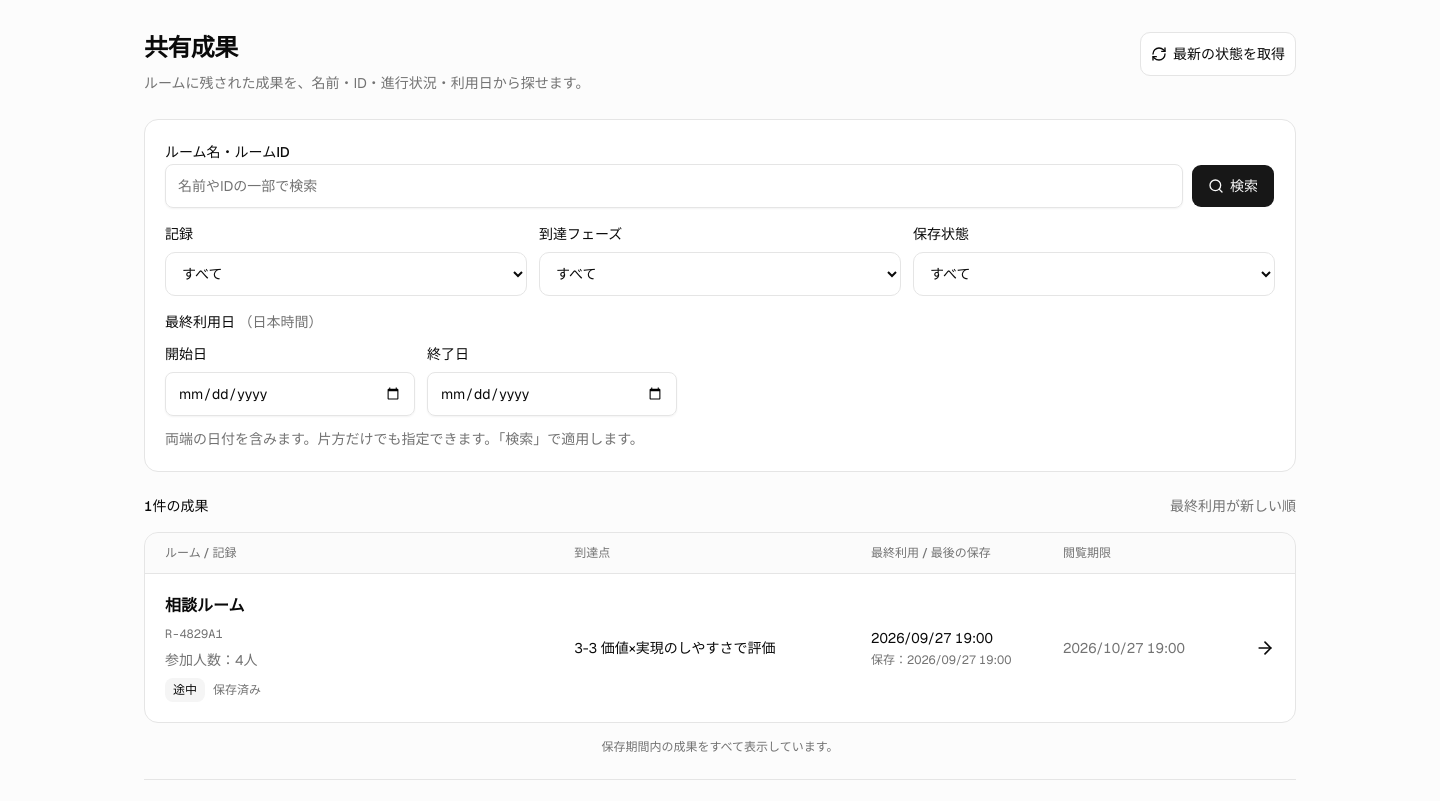
it: 共有成果閲覧 › 取得ごとに認可し、剥奪時に前の内容を隠す
This screenshot has width=1440, height=801.
Check: the link "相談ルーム" is shown, box [145,574,1295,722]
What coordinates should you click on to do the following:
click the button "最新の状態を取得"
I would click on:
 (1218, 54)
Its box is [1140,32,1296,76].
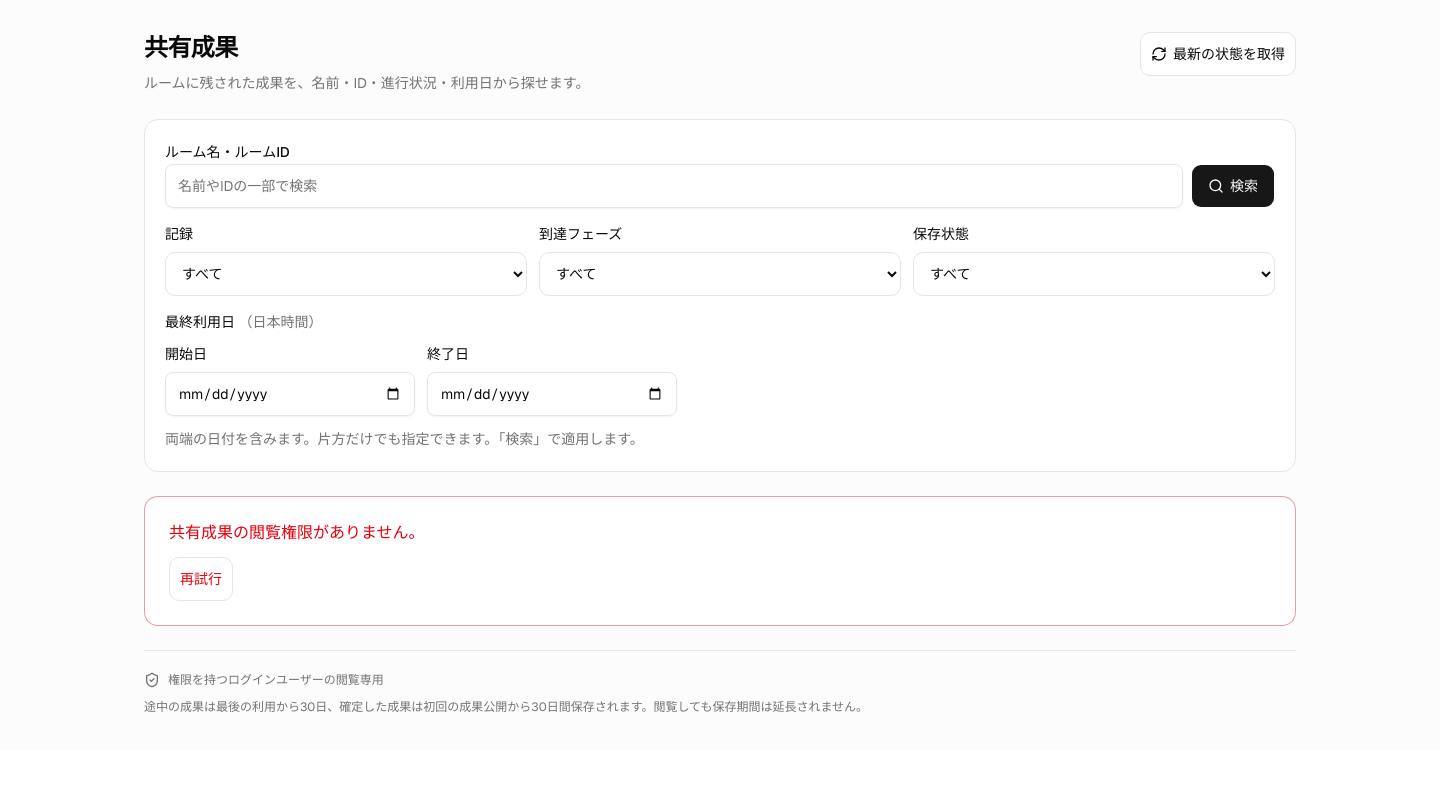
Check: the message "共有成果の閲覧権限がありません。 再試行" is shown, box [144,496,1296,626]
Check: the link "相談ルーム" is gone
